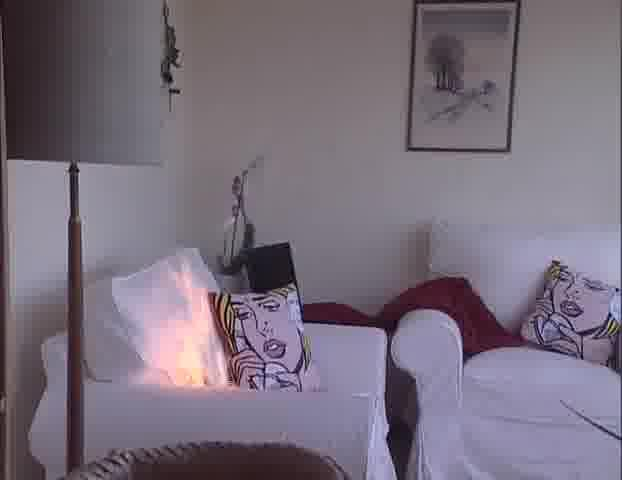fire: (175, 284, 221, 387)
